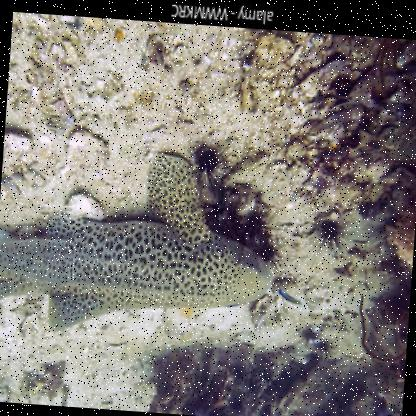zebra_shark: (0, 138, 289, 366)
